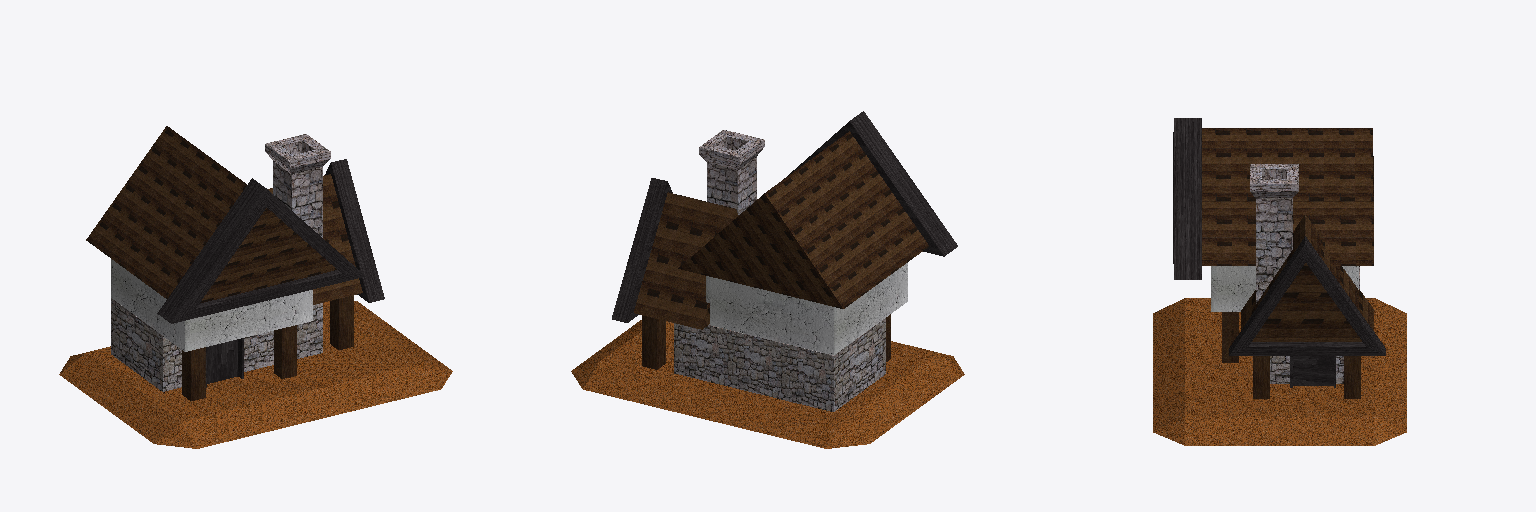
The picture shows the model from 3 angles: view 1: azimuth 30°, elevation 25°; view 2: azimuth 150°, elevation 25°; view 3: azimuth 270°, elevation 25°; orthographic projection.
Visible parts, largest first — view 1: Plane, Plane.001, Plane.005_Plane.006, Cube.001, Cube, Cube.002, Plane.006_Plane.007, Plane.002, Plane.003, Cube.006, Cube.003, Cube.004; view 2: Plane.001, Plane, Cube, Cube.001, Plane.002, Plane.005_Plane.006, Cube.002, Plane.006_Plane.007, Cube.005; view 3: Plane, Plane.001, Plane.002, Plane.006_Plane.007, Plane.005_Plane.006, Cube.002, Cube.001, Plane.004, Cube, Cube.005, Cube.006, Cube.004.
Part boxes in pixels (bbox=[...]): Plane: bbox=[59, 301, 452, 448]; Plane.001: bbox=[86, 126, 336, 302]; Plane.005_Plane.006: bbox=[157, 178, 365, 323]; Cube.001: bbox=[111, 259, 312, 351]; Cube: bbox=[111, 298, 322, 391]; Cube.002: bbox=[265, 134, 330, 237]; Plane.006_Plane.007: bbox=[325, 159, 384, 302]; Plane.002: bbox=[268, 174, 362, 304]; Plane.003: bbox=[206, 338, 243, 387]; Cube.006: bbox=[330, 295, 353, 349]; Cube.003: bbox=[182, 347, 205, 400]; Cube.004: bbox=[274, 325, 296, 378]; Plane.001: bbox=[678, 131, 928, 308]; Plane: bbox=[571, 320, 964, 448]; Cube: bbox=[674, 318, 885, 411]; Cube.001: bbox=[706, 263, 907, 354]; Plane.002: bbox=[634, 192, 738, 329]; Plane.005_Plane.006: bbox=[784, 111, 957, 256]; Cube.002: bbox=[699, 130, 764, 214]; Plane.006_Plane.007: bbox=[612, 178, 672, 322]; Cube.005: bbox=[642, 315, 665, 369]; Plane: bbox=[1153, 298, 1406, 445]; Plane.001: bbox=[1202, 128, 1373, 265]; Plane.002: bbox=[1241, 214, 1373, 341]; Plane.006_Plane.007: bbox=[1229, 236, 1385, 355]; Plane.005_Plane.006: bbox=[1173, 118, 1201, 279]; Cube.002: bbox=[1250, 164, 1298, 303]; Cube.001: bbox=[1211, 266, 1358, 311]; Plane.004: bbox=[1290, 356, 1335, 387]; Cube: bbox=[1270, 266, 1359, 383]; Cube.005: bbox=[1344, 356, 1360, 398]; Cube.006: bbox=[1253, 356, 1269, 398]; Cube.004: bbox=[1222, 312, 1238, 362].
Size of the model in its own units: 10.84 by 8.1 by 7.97.
15 materials, 5 textured.